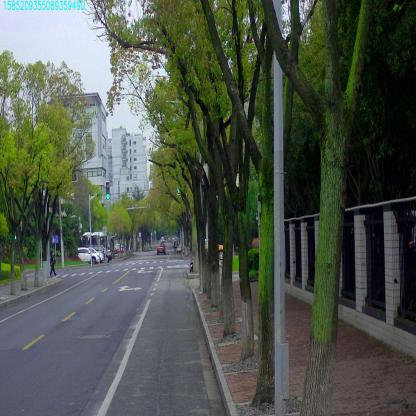traffic-light: (106, 182, 110, 199), (177, 186, 182, 194)
